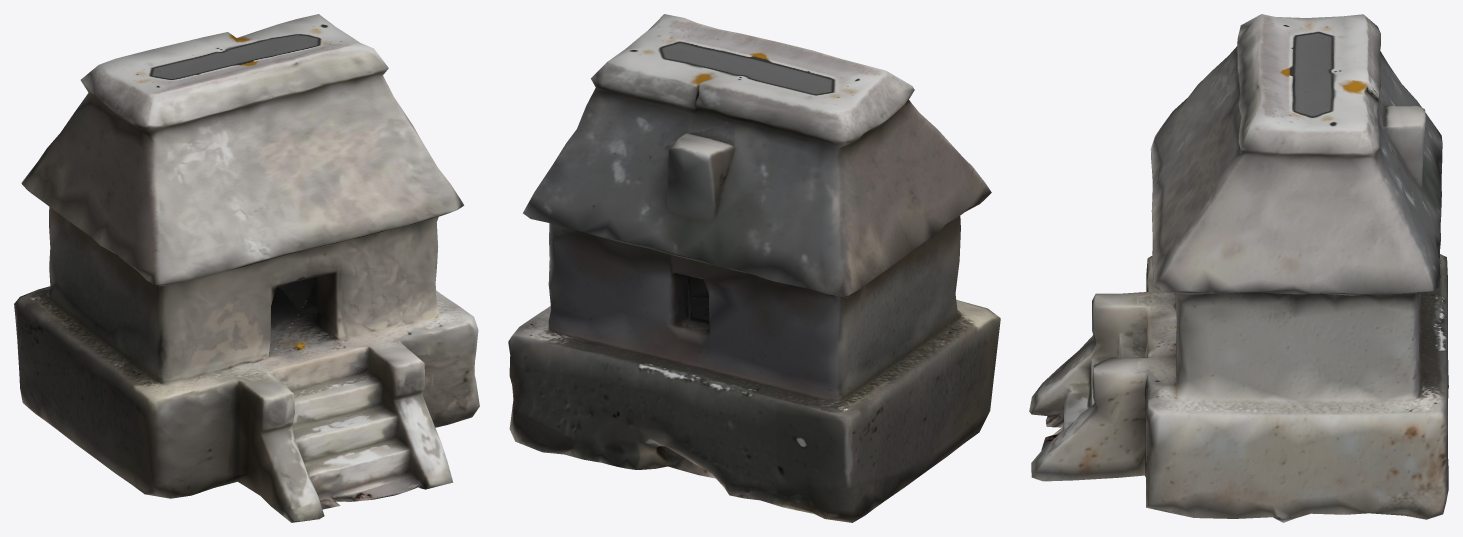
File: Tumba_totonaca.glb
The picture shows the model from 3 angles, left to right: view 1: azimuth 30°, elevation 25°; view 2: azimuth 150°, elevation 25°; view 3: azimuth 270°, elevation 25°; orthographic projection. The views are drawn at different scales.
Visible parts, largest first — view 1: Mesh1.0; view 2: Mesh1.0; view 3: Mesh1.0.
Boxes of the visible parts, bbox=[...] form: Mesh1.0: bbox=[14, 14, 479, 522]; Mesh1.0: bbox=[508, 14, 1000, 522]; Mesh1.0: bbox=[1029, 14, 1448, 522].
Bounding box in the file's own units: 0.4539 × 0.5 × 0.482.
1 material, 1 textured.
